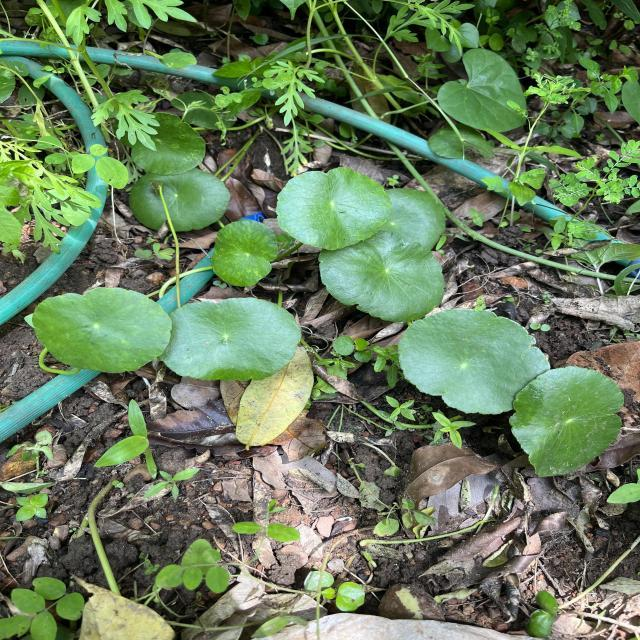Bacopa monnieri: (394, 305, 556, 418), (506, 362, 626, 479), (29, 284, 175, 376), (316, 226, 447, 325), (158, 295, 304, 383), (274, 165, 394, 252), (126, 166, 233, 233), (208, 217, 281, 289), (380, 184, 449, 258)
